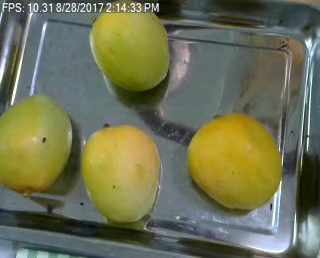Mango: (186, 111, 282, 209), (87, 1, 174, 90), (81, 123, 160, 221), (0, 95, 72, 193)
